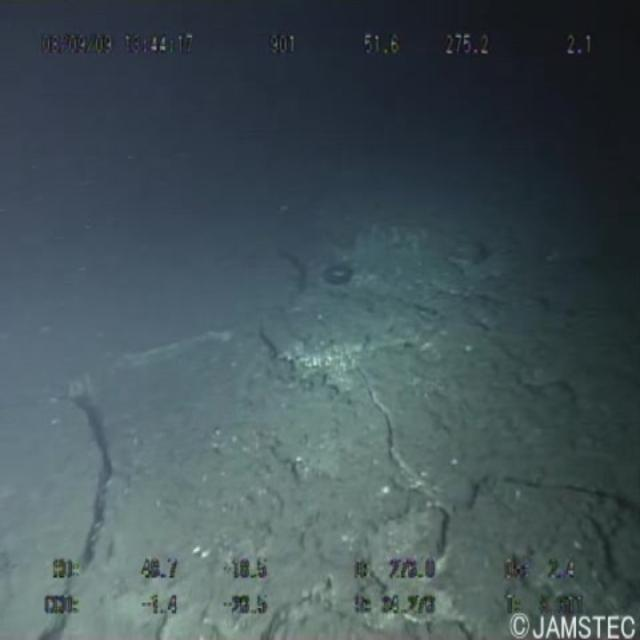Rubber: (317, 245, 371, 305)
